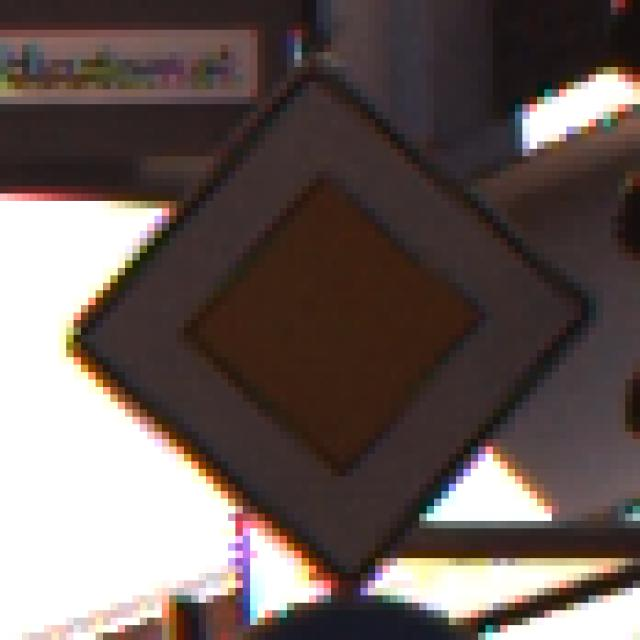Main Road: (60, 53, 582, 582)
